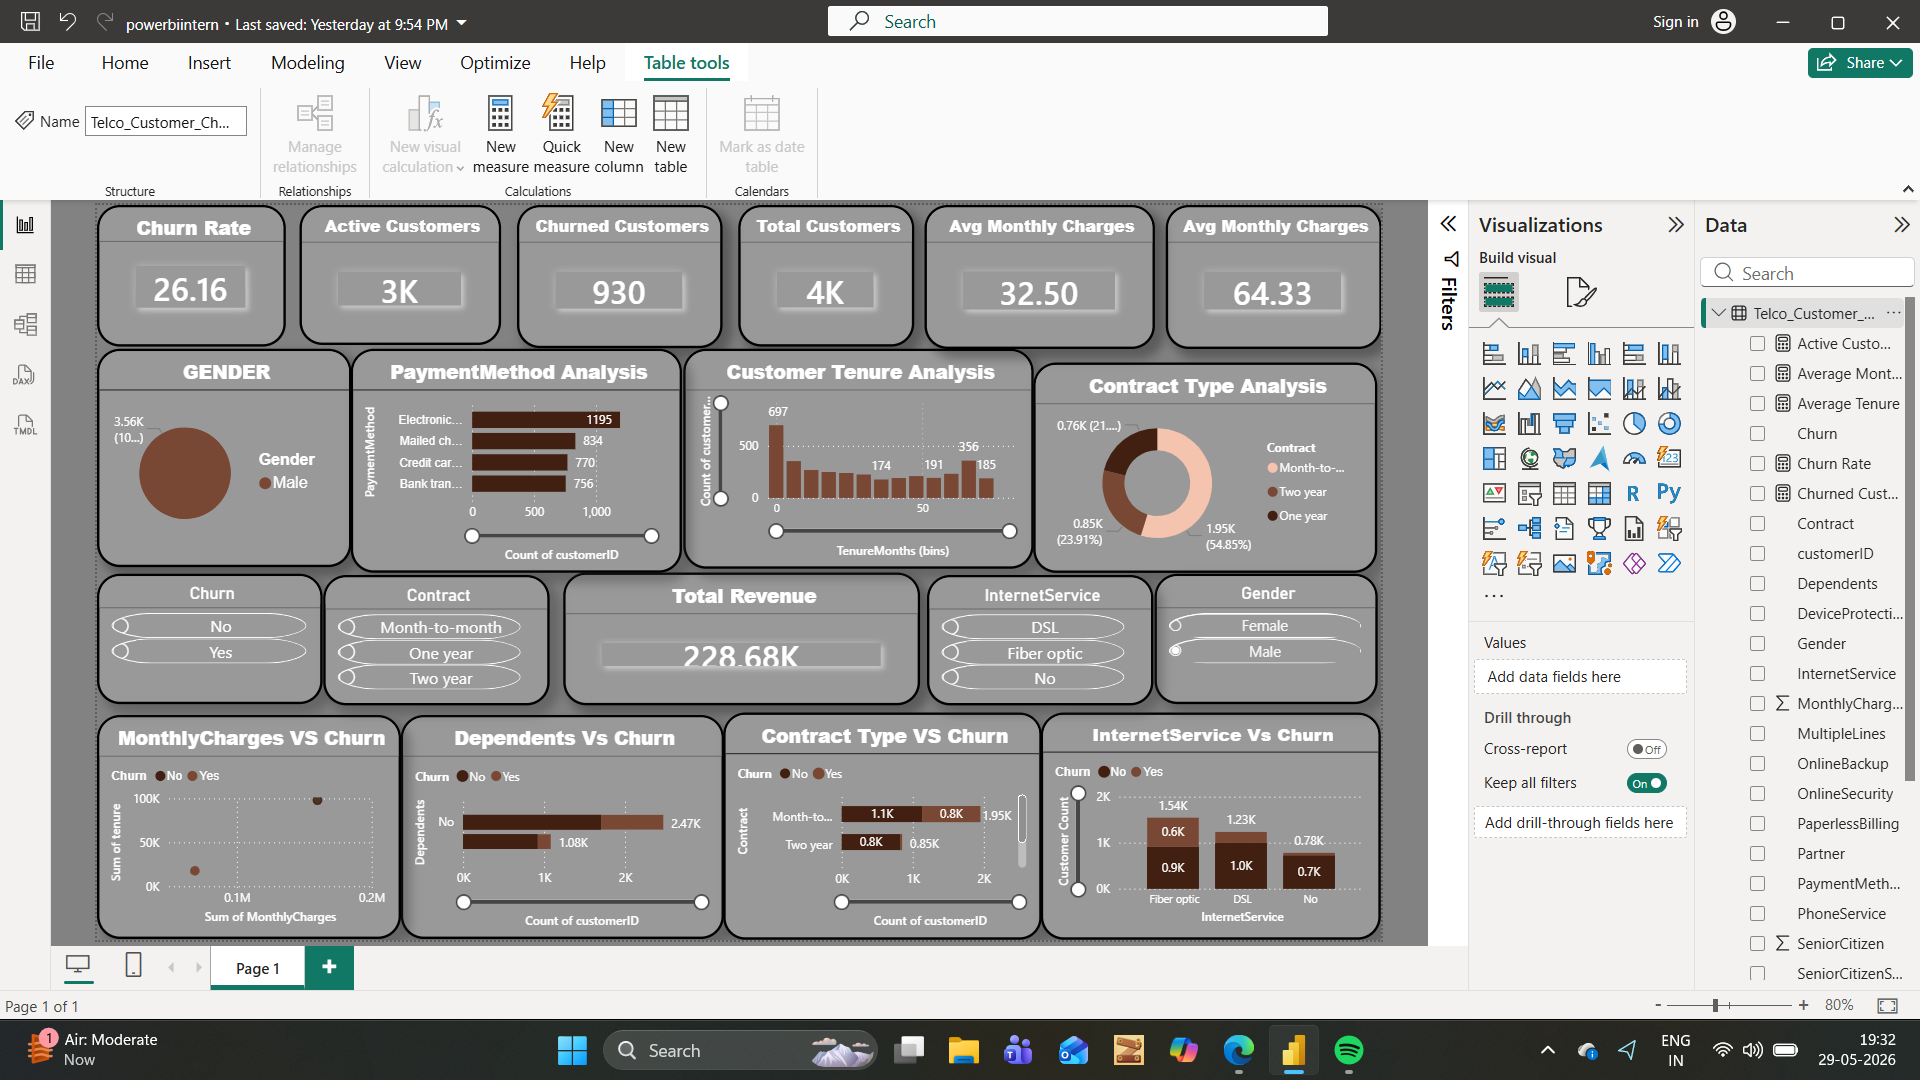

What the dashboard file says about the page in this screenshot:
{"tool":"powerbi","page":{"name":"Page 1","canvas":[1284,735],"ordinal":0},"visuals":[{"type":"cardVisual","title":"Total Customers","fields":{"Data":["Telco_Customer_Churn_Dataset  (2).Total Customers"]},"box":[641.4,0,175.7,141.4],"z":0},{"type":"cardVisual","title":"Churn Rate","fields":{"Data":["Telco_Customer_Churn_Dataset  (2).Churn Rate"]},"box":[0,0,188.6,141.4],"z":1000},{"type":"cardVisual","title":"Churned Customers","fields":{"Data":["Telco_Customer_Churn_Dataset  (2).Churned Customers"]},"box":[420,0,205.7,142.9],"z":2000},{"type":"cardVisual","title":"Active Customers","fields":{"Data":["Telco_Customer_Churn_Dataset  (2).Active Customers"]},"box":[202.9,0,201.4,140],"z":3000},{"type":"cardVisual","title":"Avg Monthly Charges","fields":{"Data":["Telco_Customer_Churn_Dataset  (2).Average Monthly Charges"]},"box":[1068.6,0,215.7,144.3],"z":4000},{"type":"cardVisual","title":"Total Revenue","fields":{"Data":["Telco_Customer_Churn_Dataset  (2).Total Revenue"]},"box":[465.7,367.1,357.1,132.9],"z":5000},{"type":"pieChart","title":"GENDER","fields":{"Category":["Telco_Customer_Churn_Dataset  (2).Gender"],"Y":["CountNonNull(Telco_Customer_Churn_Dataset  (2).customerID)"]},"box":[0,144.3,254.3,218.6],"z":6000},{"type":"barChart","title":"Dependents Vs Churn","fields":{"Category":["Telco_Customer_Churn_Dataset  (2).Dependents"],"Y":["CountNonNull(Telco_Customer_Churn_Dataset  (2).customerID)"],"Series":["Telco_Customer_Churn_Dataset  (2).Churn"]},"box":[304.3,510,322.9,224.3],"z":7000},{"type":"clusteredColumnChart","title":"Customer Tenure Analysis","fields":{"Category":["Telco_Customer_Churn_Dataset  (2).TenureMonths (bins)"],"Y":["CountNonNull(Telco_Customer_Churn_Dataset  (2).customerID)"]},"box":[585.7,144.3,350,220],"z":8000},{"type":"barChart","title":"Contract Type VS Churn","fields":{"Category":["Telco_Customer_Churn_Dataset  (2).Contract"],"Y":["CountNonNull(Telco_Customer_Churn_Dataset  (2).customerID)"],"Series":["Telco_Customer_Churn_Dataset  (2).Churn"]},"box":[625.7,507.1,318.6,227.1],"z":9000},{"type":"columnChart","title":"InternetService Vs Churn","fields":{"Category":["Telco_Customer_Churn_Dataset  (2).InternetService"],"Y":["CountNonNull(Telco_Customer_Churn_Dataset  (2).customerID)"],"Series":["Telco_Customer_Churn_Dataset  (2).Churn"]},"box":[944.3,507.1,340,227.1],"z":10000},{"type":"clusteredBarChart","title":"PaymentMethod Analysis","fields":{"Category":["Telco_Customer_Churn_Dataset  (2).PaymentMethod"],"Y":["CountNonNull(Telco_Customer_Churn_Dataset  (2).customerID)"]},"box":[254.3,144.3,331.4,224.3],"z":11000},{"type":"scatterChart","title":"MonthlyCharges VS Churn","fields":{"X":["Sum(Telco_Customer_Churn_Dataset  (2).MonthlyCharges)"],"Y":["Sum(Telco_Customer_Churn_Dataset  (2).tenure)"],"Series":["Telco_Customer_Churn_Dataset  (2).Churn"]},"box":[0,510,304.3,224.3],"z":12000},{"type":"donutChart","title":"Contract Type Analysis","fields":{"Category":["Telco_Customer_Churn_Dataset  (2).Contract"],"Y":["CountNonNull(Telco_Customer_Churn_Dataset  (2).customerID)"]},"box":[935.7,157.1,344.3,210],"z":13000},{"type":"listSlicer","fields":{"Values":["Telco_Customer_Churn_Dataset  (2).Gender"]},"box":[1057.1,368.6,222.9,130],"z":14000},{"type":"listSlicer","fields":{"Values":["Telco_Customer_Churn_Dataset  (2).Churn"]},"box":[0,368.6,225.7,130],"z":15000},{"type":"listSlicer","fields":{"Values":["Telco_Customer_Churn_Dataset  (2).Contract"]},"box":[240,370,225.7,130],"z":16000},{"type":"listSlicer","fields":{"Values":["Telco_Customer_Churn_Dataset  (2).InternetService"]},"box":[822.9,368.6,225.7,130],"z":17000},{"type":"cardVisual","title":"Avg Monthly Charges","fields":{"Data":["Telco_Customer_Churn_Dataset  (2).Average Tenure"]},"box":[827.1,0,230,144.3],"z":18000}]}

Visuals, with their boxes on the page's 1284x735 design canvas (x1, y1, x2, y2). These are canvas units, not pixel positions in the 1920x1080 screenshot, which may show the page scaled, cropped or inside an application window:
"Total Customers" cardVisual: <box>641,0,817,141</box>
"Churn Rate" cardVisual: <box>0,0,189,141</box>
"Churned Customers" cardVisual: <box>420,0,626,143</box>
"Active Customers" cardVisual: <box>203,0,404,140</box>
"Avg Monthly Charges" cardVisual: <box>1069,0,1284,144</box>
"Total Revenue" cardVisual: <box>466,367,823,500</box>
"GENDER" pieChart: <box>0,144,254,363</box>
"Dependents Vs Churn" barChart: <box>304,510,627,734</box>
"Customer Tenure Analysis" clusteredColumnChart: <box>586,144,936,364</box>
"Contract Type VS Churn" barChart: <box>626,507,944,734</box>
"InternetService Vs Churn" columnChart: <box>944,507,1284,734</box>
"PaymentMethod Analysis" clusteredBarChart: <box>254,144,586,369</box>
"MonthlyCharges VS Churn" scatterChart: <box>0,510,304,734</box>
"Contract Type Analysis" donutChart: <box>936,157,1280,367</box>
listSlicer - Telco_Customer_Churn_Dataset  (2).Gender: <box>1057,369,1280,499</box>
listSlicer - Telco_Customer_Churn_Dataset  (2).Churn: <box>0,369,226,499</box>
listSlicer - Telco_Customer_Churn_Dataset  (2).Contract: <box>240,370,466,500</box>
listSlicer - Telco_Customer_Churn_Dataset  (2).InternetService: <box>823,369,1049,499</box>
"Avg Monthly Charges" cardVisual: <box>827,0,1057,144</box>
